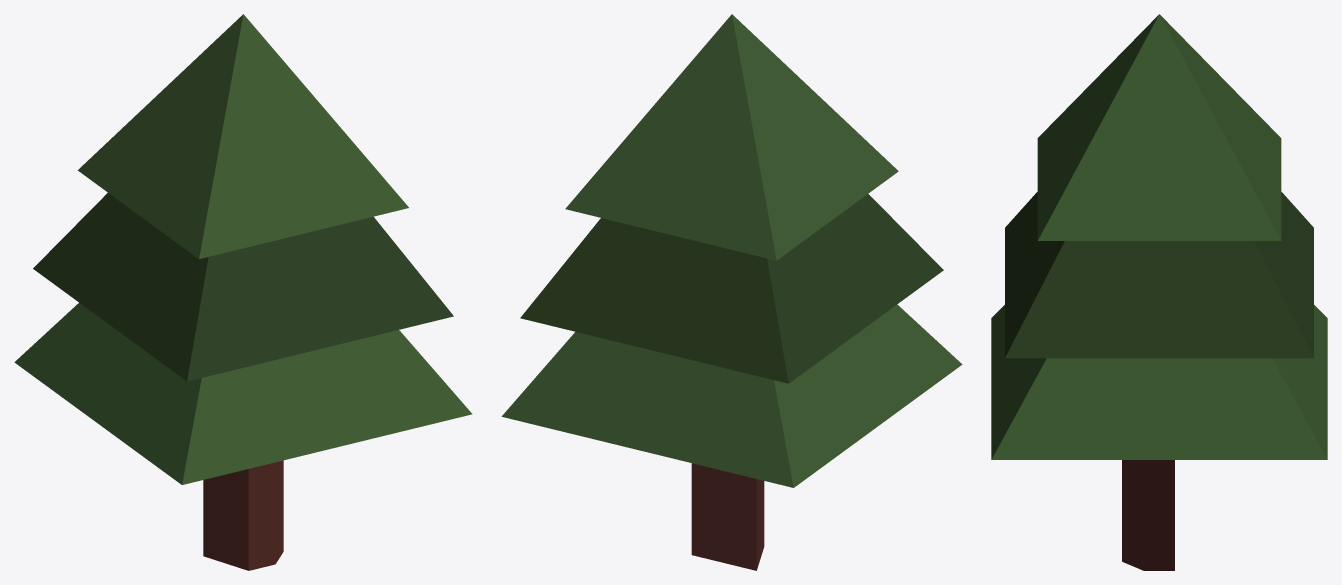
The model's file is agac.gltf.
The picture shows the model from 3 angles, left to right: view 1: azimuth 30°, elevation 25°; view 2: azimuth 150°, elevation 25°; view 3: azimuth 270°, elevation 25°; orthographic projection.
Visible parts, largest first — view 1: agac; view 2: agac; view 3: agac.
Part boxes in pixels (bbox=[...]): agac: bbox=[14, 14, 472, 570]; agac: bbox=[501, 14, 962, 570]; agac: bbox=[991, 14, 1327, 570].
Bounding box in the file's own units: 6.12 × 10.88 × 6.12.
